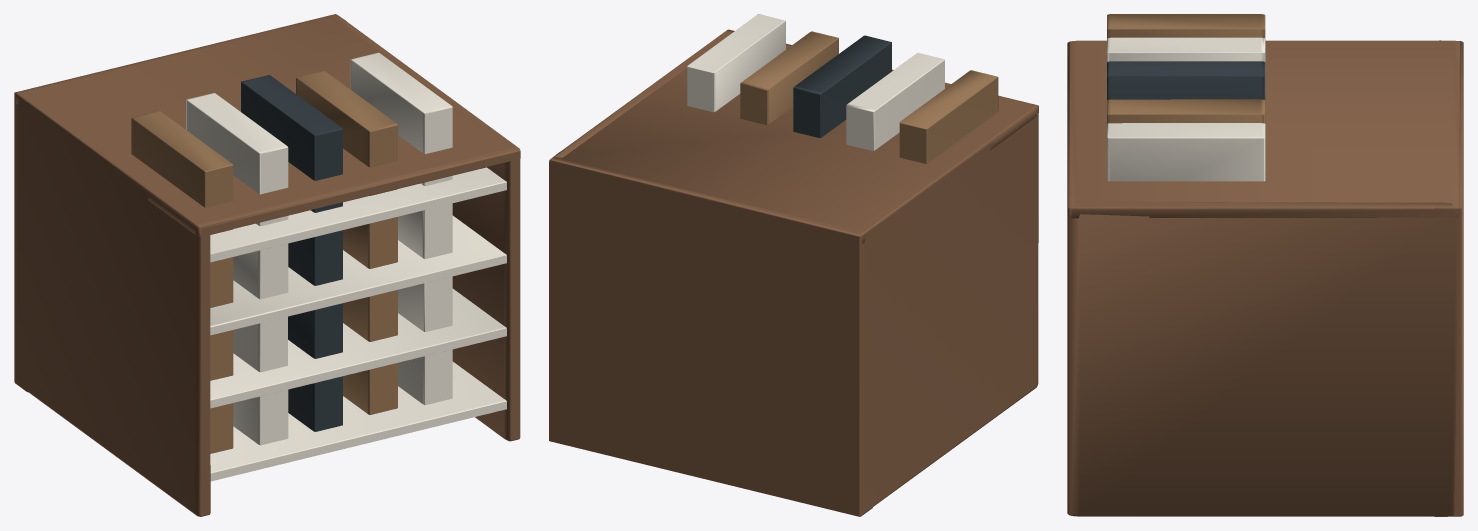
The model's file is shelf-17-1.lod.glb.
3 views of the same model, side by side, from view 1: azimuth 30°, elevation 25°; view 2: azimuth 150°, elevation 25°; view 3: azimuth 270°, elevation 25° (orthographic). The views are drawn at different scales.
Visible parts, largest first — view 1: upholstery (×2), book (×2); view 2: upholstery (×2), book (×2); view 3: upholstery (×2), book (×2).
Part boxes in pixels (left/top/right/bottom): upholstery (×2): left=14, top=14, right=520, bottom=516; book (×2): left=131, top=70, right=397, bottom=453; upholstery (×2): left=549, top=14, right=1038, bottom=516; book (×2): left=740, top=31, right=998, bottom=163; upholstery (×2): left=1067, top=37, right=1463, bottom=516; book (×2): left=1107, top=14, right=1265, bottom=123.
Size of the model in its own units: 1 by 1 by 1.
